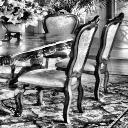chair_success: (11, 9, 103, 127)
